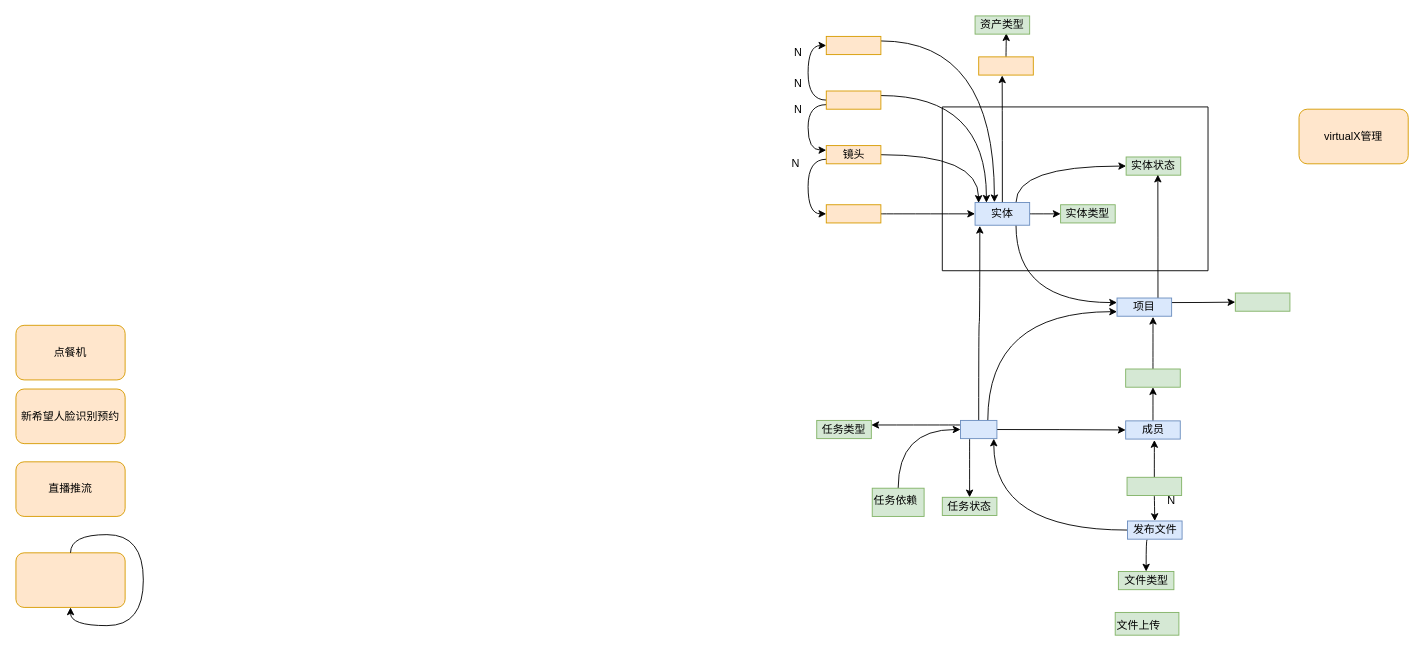
This 1424x652 diagram has some shape labels left out. The box of each missing label's shape, as (x1, y1, x2, y2) in pixels:
任务: (960, 420, 997, 439)
动捕: (825, 90, 881, 109)
小程序: (15, 552, 125, 607)
提交历史: (1126, 476, 1182, 495)
演员: (825, 35, 881, 55)
资产: (978, 56, 1033, 75)
集数: (825, 204, 881, 223)
项目状态: (1234, 292, 1290, 311)
项目角色: (1125, 368, 1180, 387)
